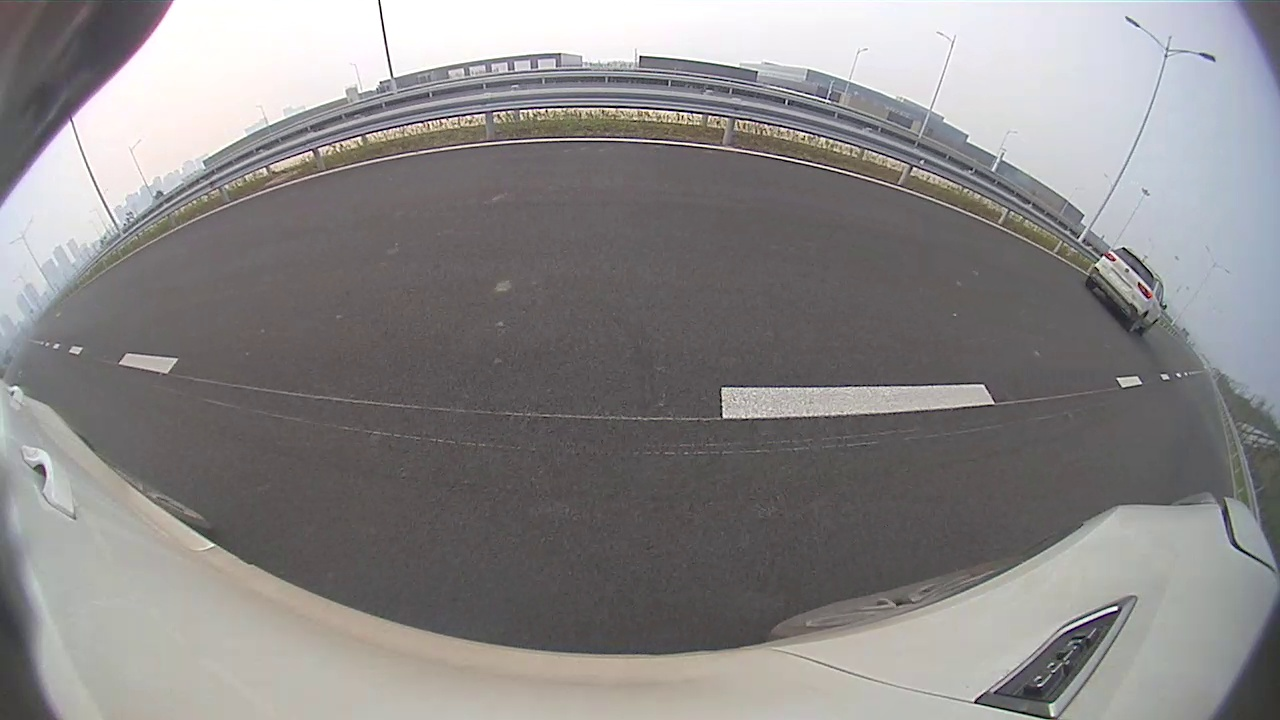car: (819, 139, 1054, 274)
front: (821, 184, 848, 225)
rear: (911, 204, 960, 268)
